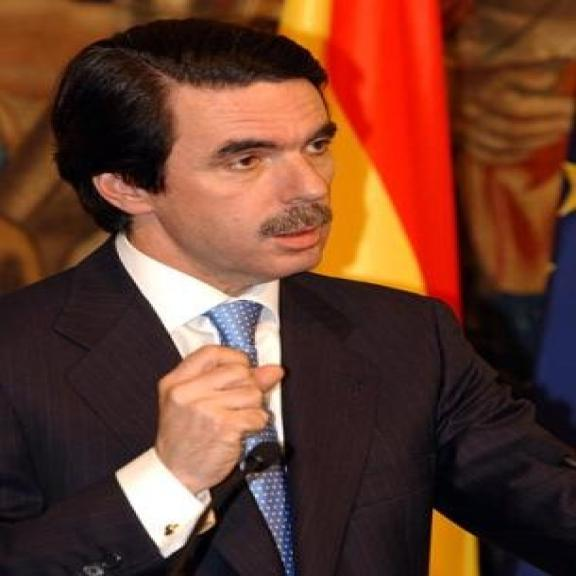face: (99, 63, 333, 278)
